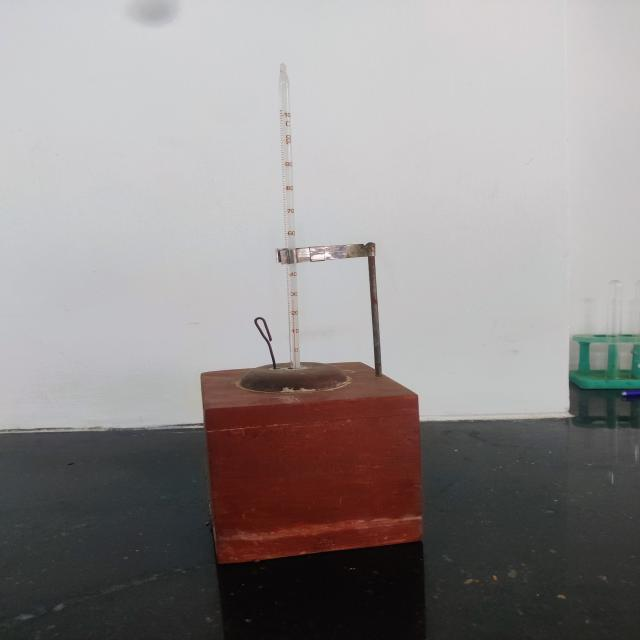Calorimeter: (148, 36, 488, 610)
